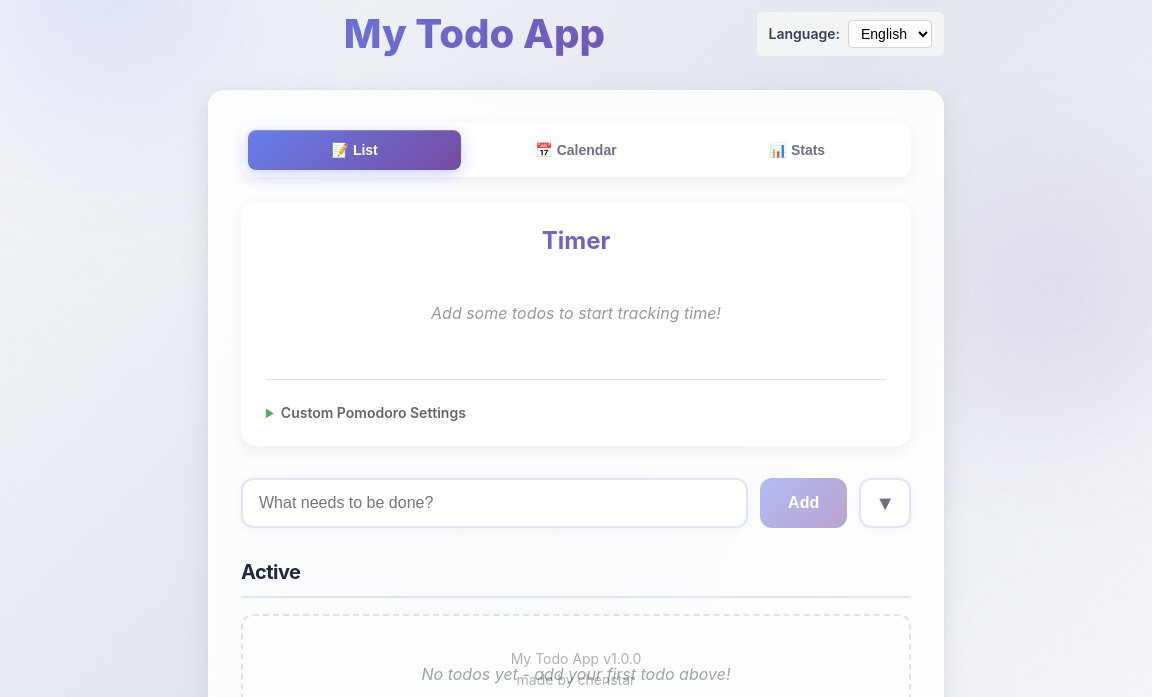
Scenario: Todo App Integration - Mark Complete › should mark a todo as complete
Type "Test todo" into the field.
click(495, 503); type("Test todo")  # box [241,478,748,528]
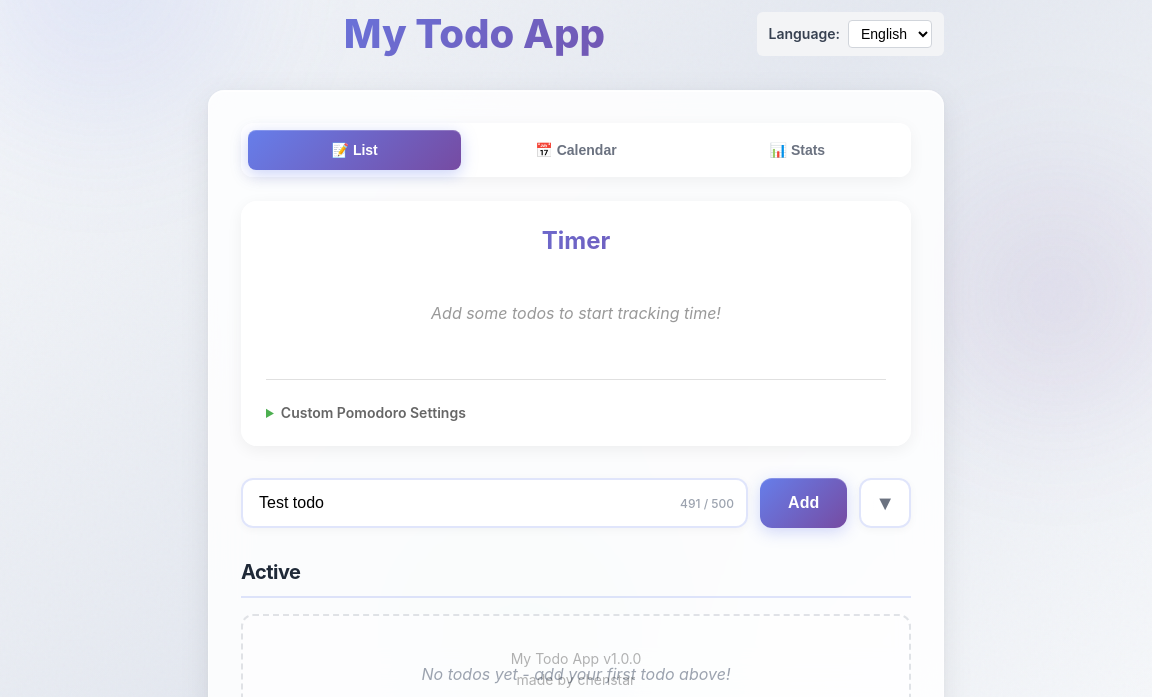
Submit the form, box [241,478,911,528]
(page scrolled)
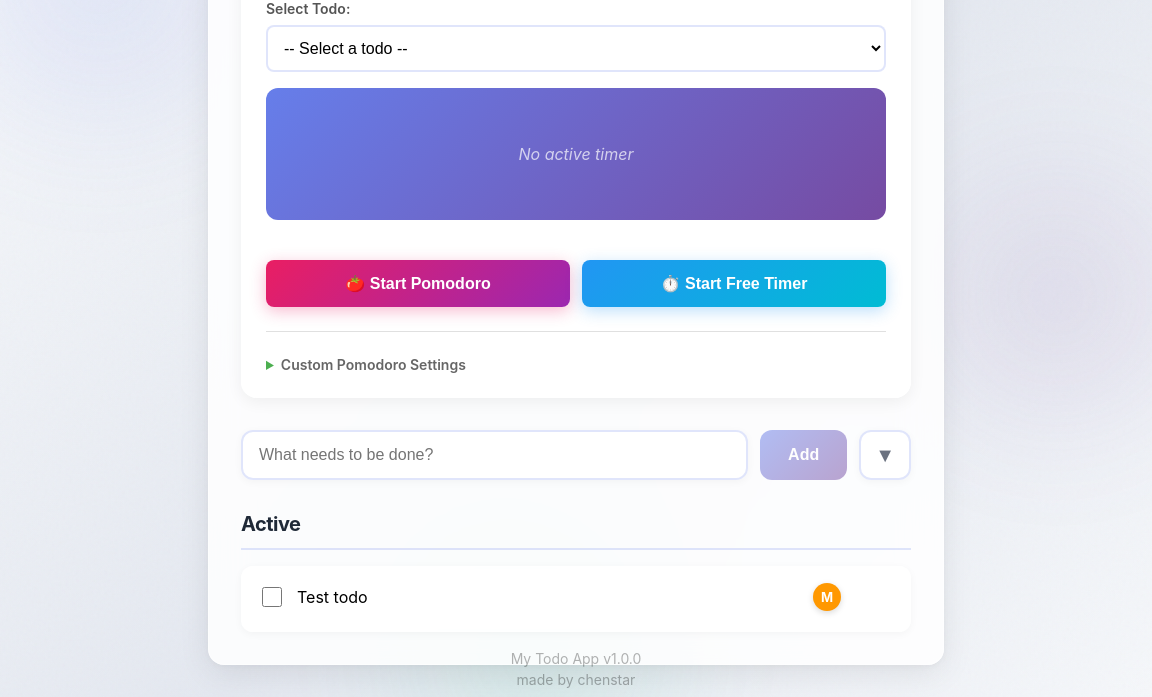
Expected: the checkbox is not checked
Click the checkbox to mark as complete
Click the checkbox.
click(272, 597)  # box [262,587,282,607]
(page scrolled)
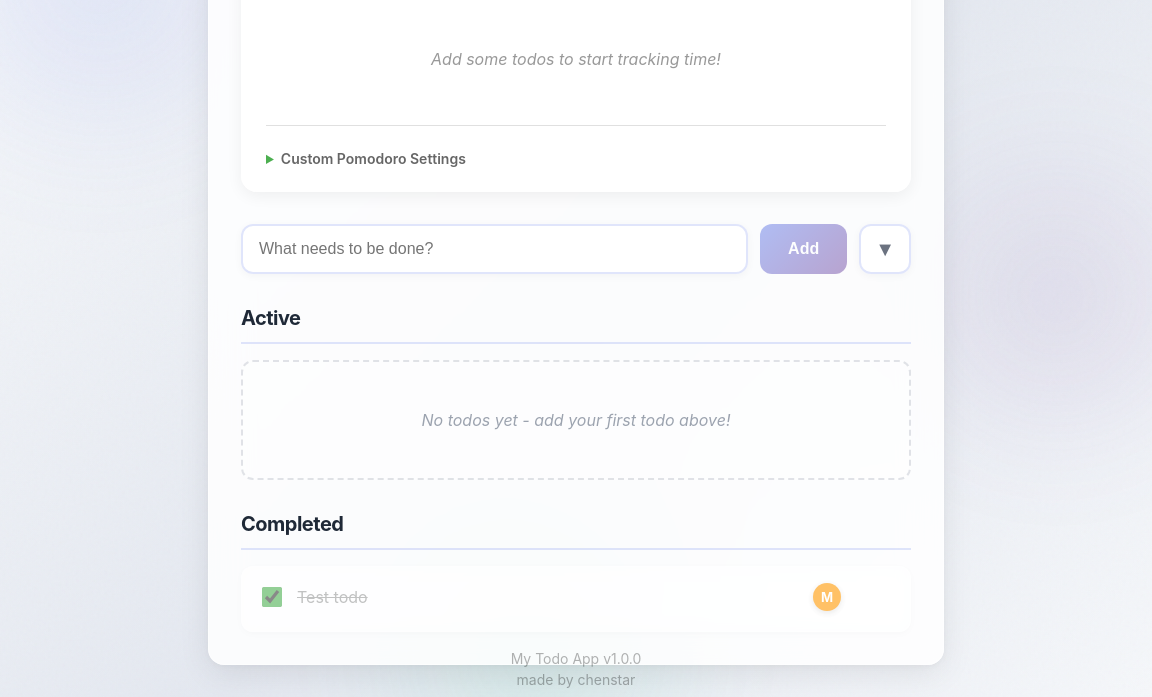
Expected: the list item is shown, [241,566,911,632]
Expected: the checkbox is checked, [262,587,282,607]
Expected: the heading "Completed" is shown, [241,512,911,550]
